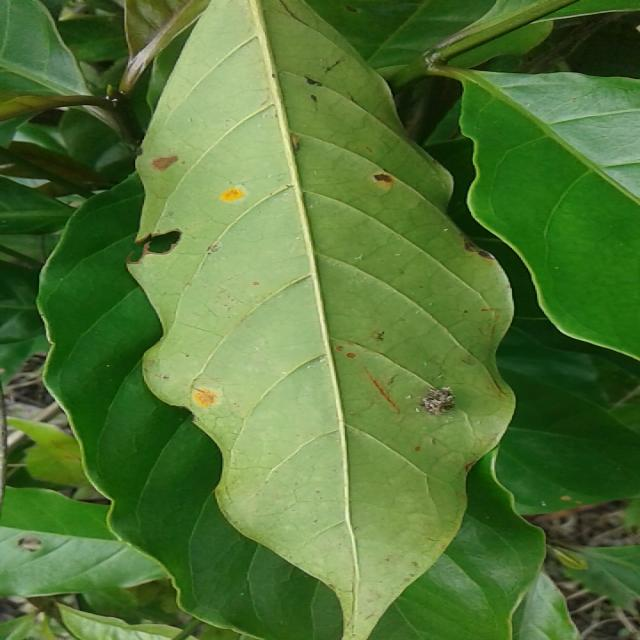Enfermedad-Roya: (126, 0, 516, 640)
